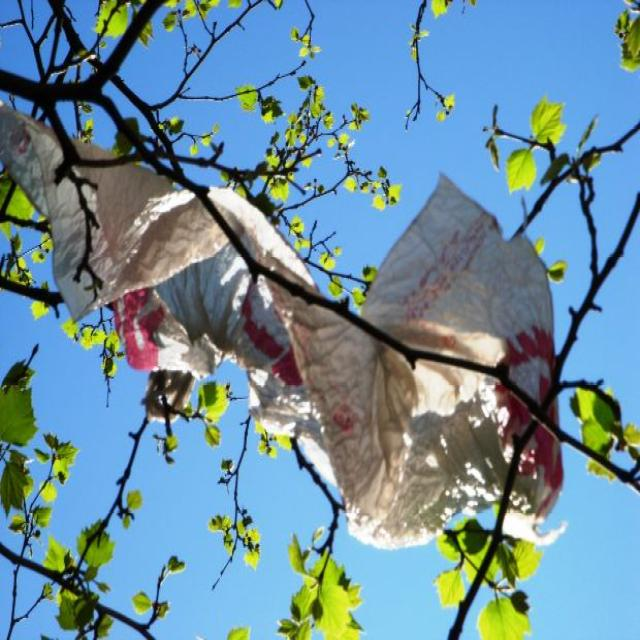trash: (3, 109, 570, 534)
